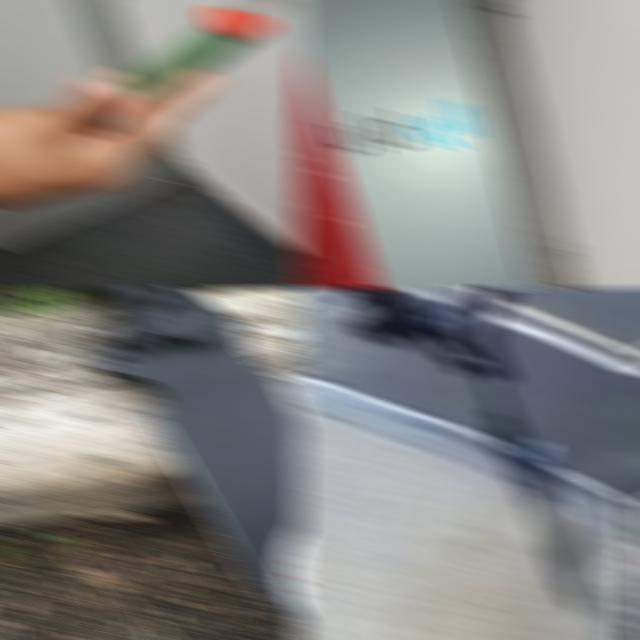Knife: (94, 0, 296, 133)
Knife_Handle: (514, 287, 535, 300)
